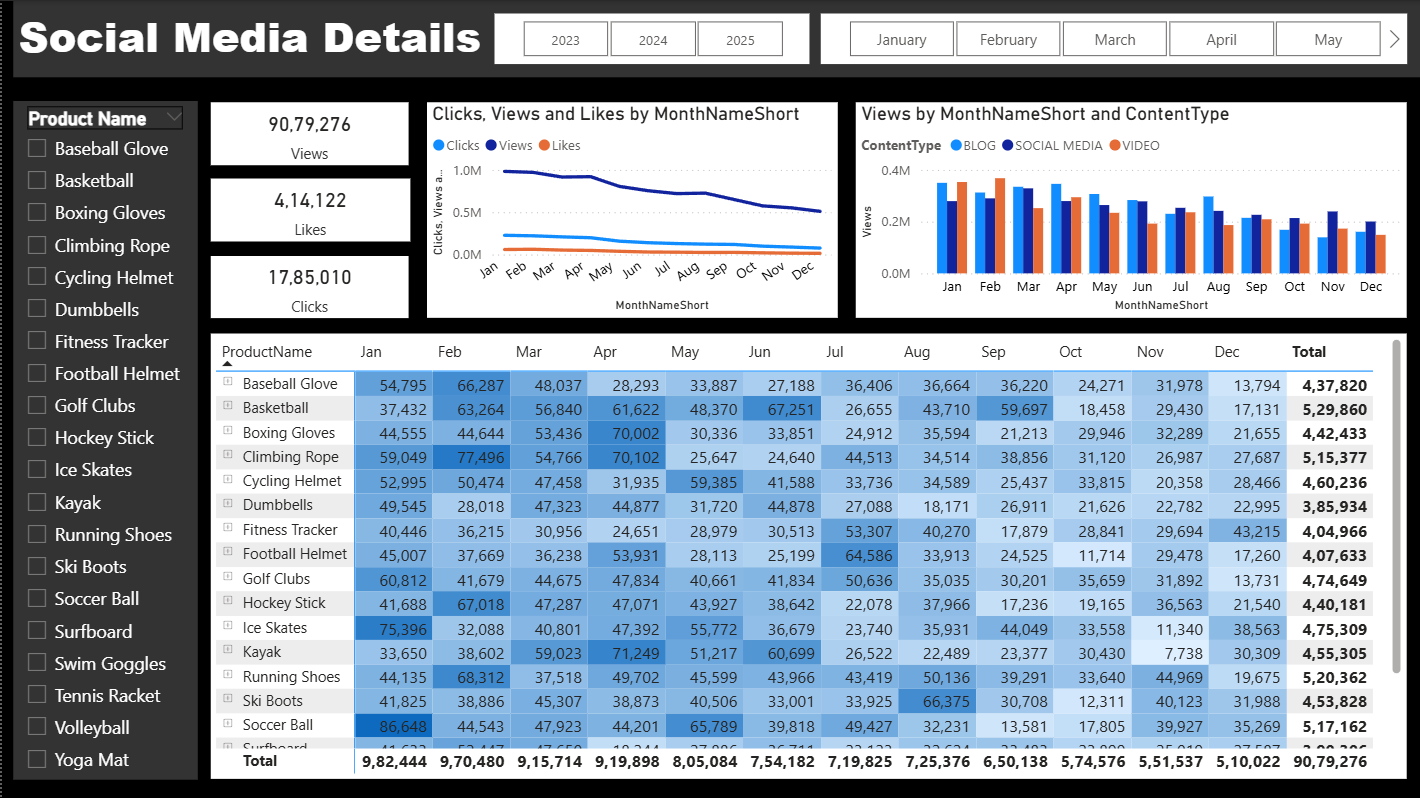

Layout of this report page (visuals, bound fields, positions):
{"tool":"powerbi","page":{"name":"Social Media Details","canvas":[1280,720],"ordinal":2},"visuals":[{"type":"textbox","box":[9.6,0,1270.7,68.6],"z":0},{"type":"slicer","fields":{"Values":["dim_products.ProductName"]},"box":[9.6,90.6,166,612],"z":1000},{"type":"slicer","fields":{"Values":["Calendar.Year"]},"box":[444.3,11.4,284.3,45.7],"z":2000},{"type":"slicer","fields":{"Values":["Calendar.MonthNameLong"]},"box":[738.6,11.4,528.6,45.7],"z":3000},{"type":"lineChart","fields":{"Category":["Calendar.MonthNameShort"],"Y":["Calculations.Clicks","Calculations.Views","Calculations.Likes"]},"box":[382.9,91.4,370,194.3],"z":4000},{"type":"clusteredColumnChart","fields":{"Category":["Calendar.MonthNameShort"],"Y":["Calculations.Views"],"Series":["fact_engagement_data.ContentType"]},"box":[770,91.4,497.1,194.3],"z":5000},{"type":"card","fields":{"Values":["Calculations.Views"]},"box":[188.6,91.4,178.6,57.1],"z":6000},{"type":"card","fields":{"Values":["Calculations.Likes"]},"box":[188.6,160,180,57.1],"z":7000},{"type":"card","fields":{"Values":["Calculations.Clicks"]},"box":[188.6,230,178.6,55.7],"z":8000},{"type":"pivotTable","fields":{"Rows":["dim_products.ProductName","fact_engagement_data.ContentType"],"Columns":["Calendar.MonthNameShort"],"Values":["Calculations.Views"]},"box":[188.6,300,1078.6,401.4],"z":9000}]}

Visuals, with their boxes in screenshot pixels (x1, y1, x2, y2), scaled from the page's 1280x720 canvas onto the 1420x798 screenshot:
textbox: (left=11, top=0, right=1419, bottom=76)
slicer - dim_products.ProductName: (left=11, top=100, right=195, bottom=779)
slicer - Calendar.Year: (left=493, top=13, right=808, bottom=63)
slicer - Calendar.MonthNameLong: (left=819, top=13, right=1406, bottom=63)
lineChart - Calendar.MonthNameShort x Calculations.Clicks: (left=425, top=101, right=835, bottom=317)
clusteredColumnChart - Calendar.MonthNameShort x Calculations.Views: (left=854, top=101, right=1406, bottom=317)
card - Calculations.Views: (left=209, top=101, right=407, bottom=165)
card - Calculations.Likes: (left=209, top=177, right=409, bottom=241)
card - Calculations.Clicks: (left=209, top=255, right=407, bottom=317)
pivotTable - dim_products.ProductName x fact_engagement_data.ContentType: (left=209, top=332, right=1406, bottom=777)
